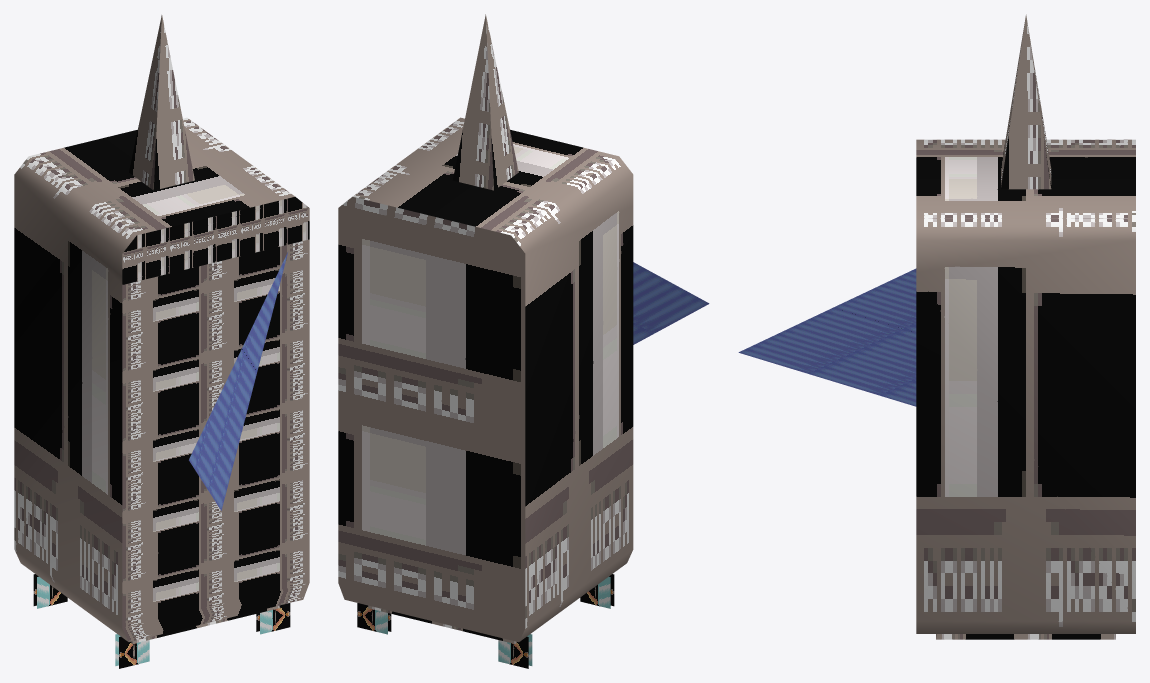
Rendered from 3870kg3_shp01.gltf.
The picture shows the model from 3 angles, left to right: view 1: azimuth 30°, elevation 25°; view 2: azimuth 150°, elevation 25°; view 3: azimuth 270°, elevation 25°; orthographic projection.
Visible parts, largest first — view 1: 3870kg3_shp01; view 2: 3870kg3_shp01; view 3: 3870kg3_shp01.
Part boxes in pixels (x1=…): 3870kg3_shp01: x1=14, y1=15, x2=309, y2=668; 3870kg3_shp01: x1=338, y1=14, x2=709, y2=668; 3870kg3_shp01: x1=738, y1=14, x2=1135, y2=639.
Bounding box in the file's own units: 0.874 × 2.69 × 1.58.
Materials: 3 (3 with a texture image).
